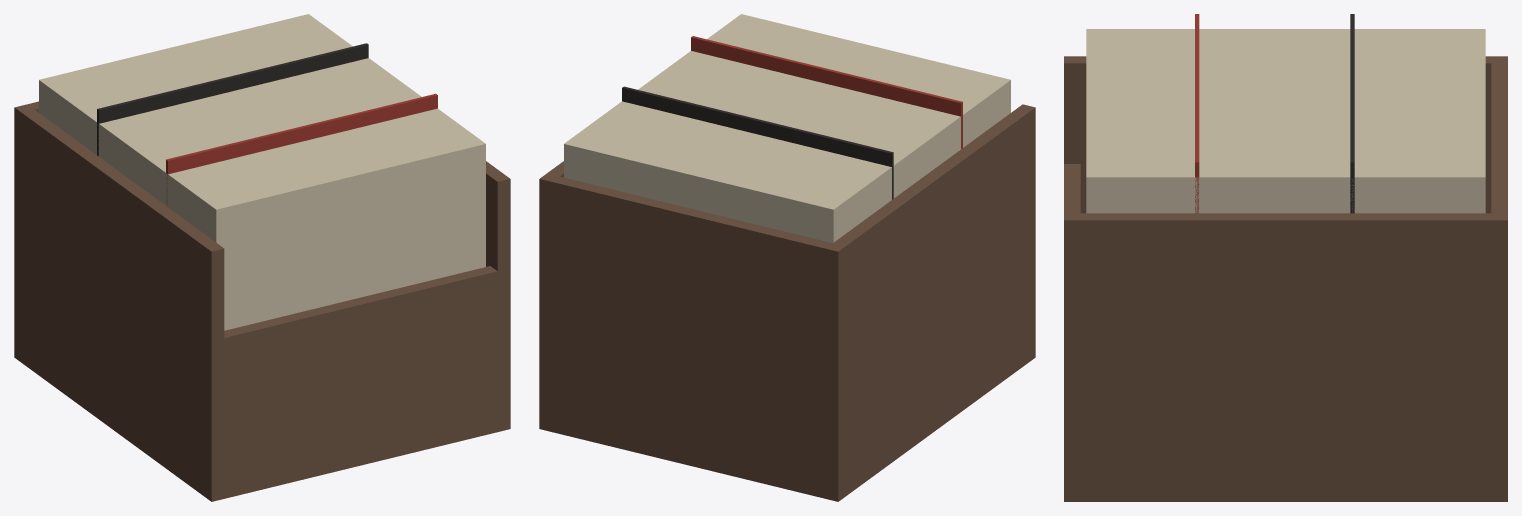
Rendered from vinyl-crate.glb.
The picture shows the model from 3 angles, left to right: view 1: azimuth 30°, elevation 25°; view 2: azimuth 150°, elevation 25°; view 3: azimuth 270°, elevation 25°; orthographic projection. The views are drawn at different scales.
Parts seen in each view (by area): view 1: wood, paper, plastic-dark, accent-warm; view 2: wood, paper, plastic-dark, accent-warm; view 3: wood, paper, plastic-dark, accent-warm.
Part boxes in pixels (left/top/right/bottom): wood: left=14, top=101, right=510, bottom=501; paper: left=39, top=14, right=485, bottom=330; plastic-dark: left=97, top=43, right=368, bottom=156; accent-warm: left=166, top=93, right=437, bottom=206; wood: left=539, top=104, right=1035, bottom=501; paper: left=564, top=14, right=1010, bottom=242; plastic-dark: left=622, top=86, right=893, bottom=199; accent-warm: left=691, top=36, right=962, bottom=148; wood: left=1064, top=56, right=1507, bottom=501; paper: left=1086, top=29, right=1485, bottom=213; plastic-dark: left=1350, top=14, right=1354, bottom=213; accent-warm: left=1195, top=14, right=1199, bottom=213.
Bounding box in the file's own units: 0.35 × 0.33 × 0.4.
